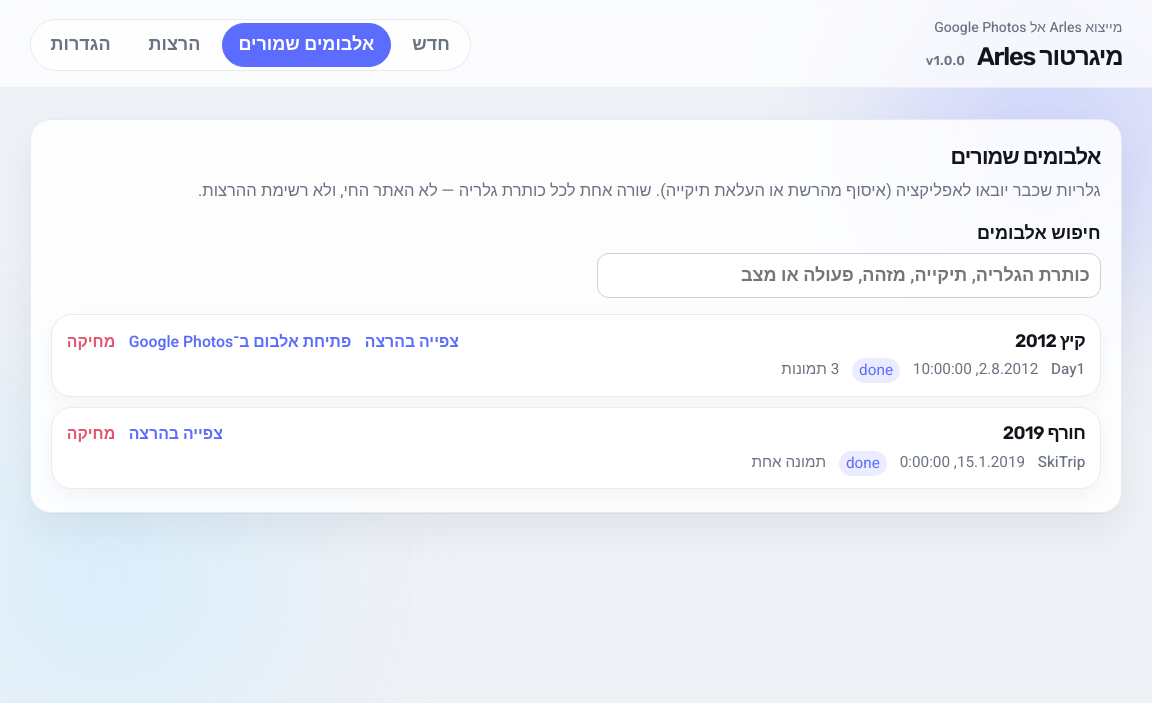
App routes › opening a library row navigates to that album URL
Click the link "קיץ 2012" at (1050, 341), box [1015,330,1085,352]
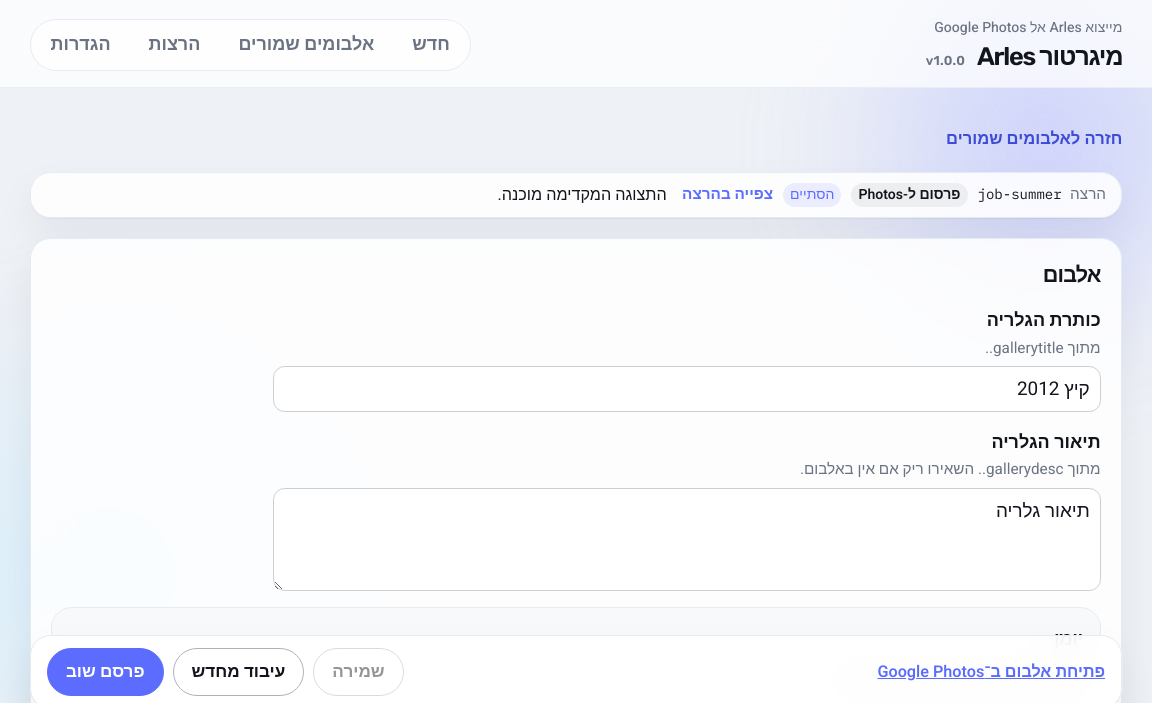
Expected: the field labelled "כותרת הגלריה" holds "קיץ 2012", [273,366,1101,412]
